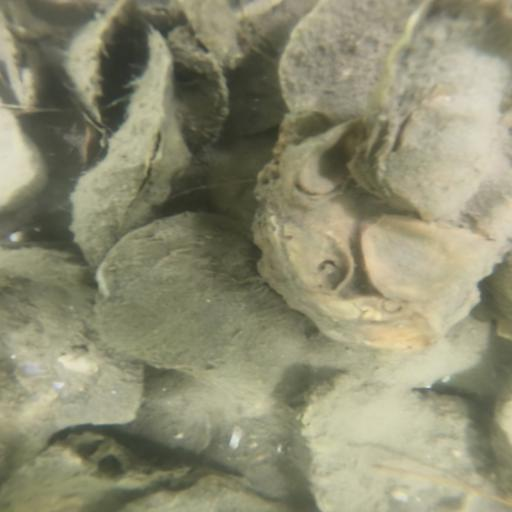Oyster-Closed: (102, 210, 306, 413), (347, 2, 512, 222), (1, 246, 150, 488), (64, 24, 195, 276), (289, 377, 512, 512), (113, 374, 297, 500), (358, 215, 512, 343), (284, 2, 422, 124), (112, 477, 296, 512), (1, 104, 51, 214)
